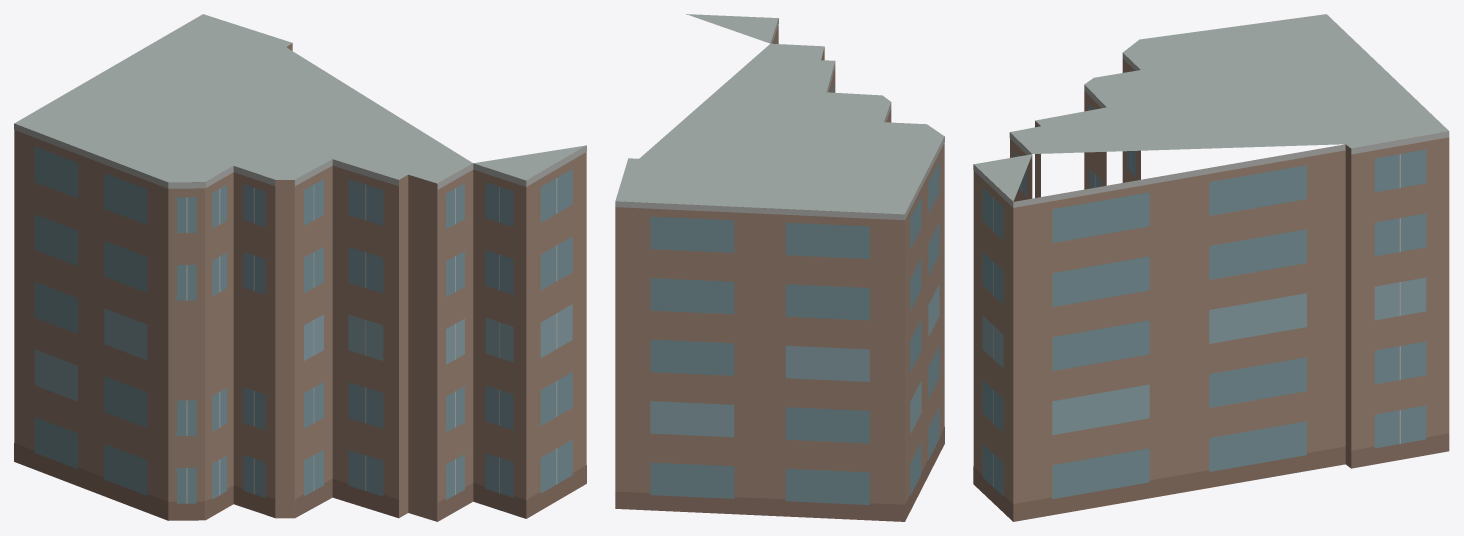
File: survey-upis-33014608.glb
3 renders of one model, left to right at view 1: azimuth 30°, elevation 25°; view 2: azimuth 150°, elevation 25°; view 3: azimuth 270°, elevation 25°, orthographic. The views are drawn at different scales.
Parts seen in each view (by area): view 1: survey-upis-33014608.tmp; view 2: survey-upis-33014608.tmp; view 3: survey-upis-33014608.tmp.
Part boxes in pixels (left/top/right/bottom): survey-upis-33014608.tmp: left=14, top=14, right=586, bottom=521; survey-upis-33014608.tmp: left=615, top=14, right=944, bottom=521; survey-upis-33014608.tmp: left=973, top=14, right=1449, bottom=521.
Size of the model in its own units: 16.25 by 12.9 by 17.39.
